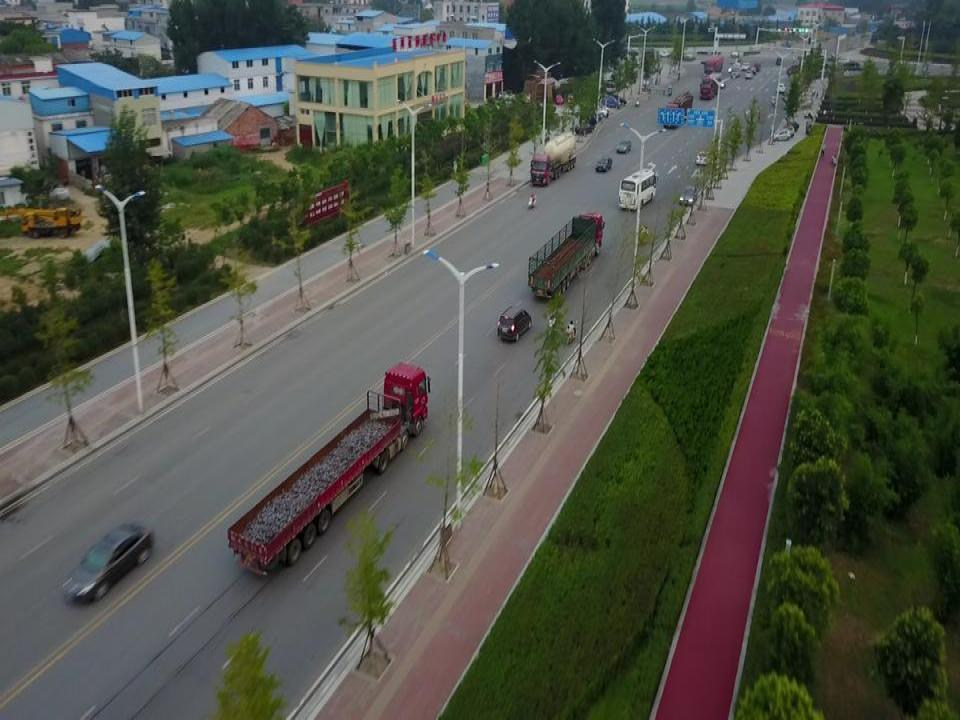bus: (618, 168, 663, 216)
car: (61, 515, 161, 604), (678, 184, 701, 209), (693, 145, 714, 171), (771, 124, 798, 140), (594, 156, 613, 175), (615, 135, 634, 153), (770, 128, 792, 141)
truck: (213, 347, 437, 586), (525, 210, 608, 298), (524, 127, 580, 188)
van: (495, 304, 531, 345)
